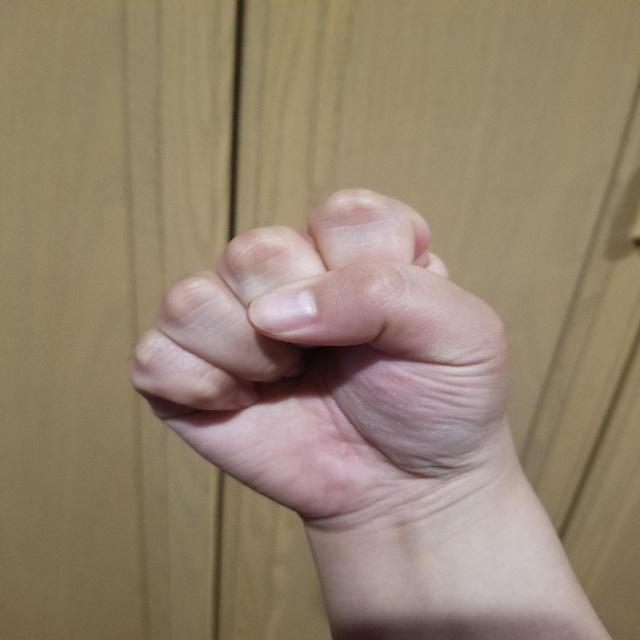S: (116, 182, 521, 520)
